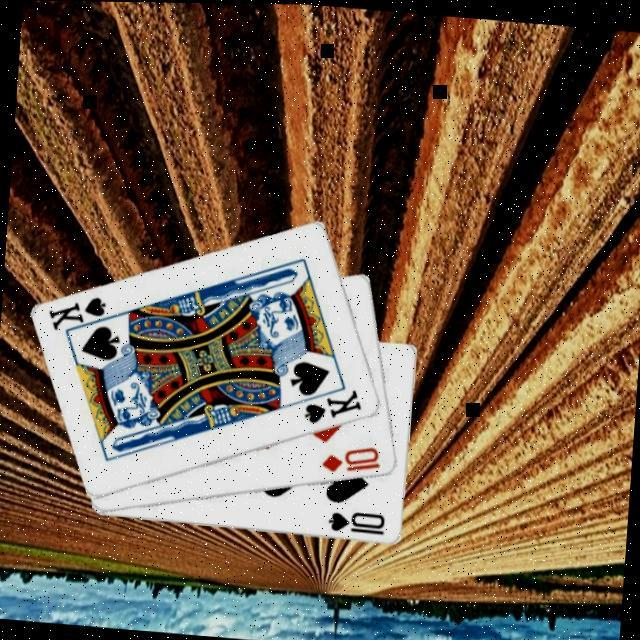10D: (316, 439, 382, 478)
10S: (322, 507, 387, 538)
KS: (43, 290, 118, 342), (298, 382, 364, 430)
